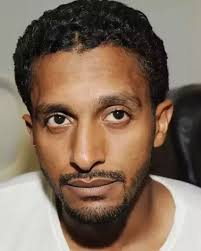middle_eastern_male: (26, 35, 163, 215)
